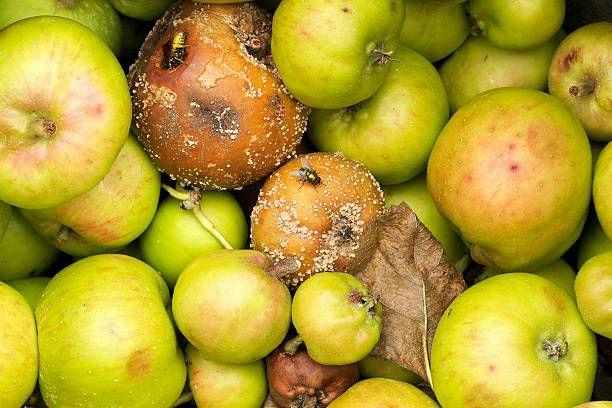Apple: (130, 0, 314, 190), (423, 87, 593, 271), (37, 253, 190, 408), (252, 145, 386, 276)
